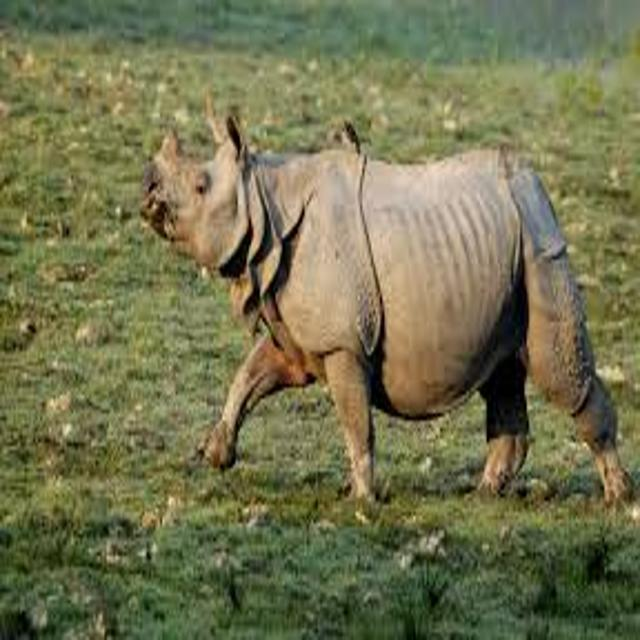rhino: (105, 74, 640, 539)
